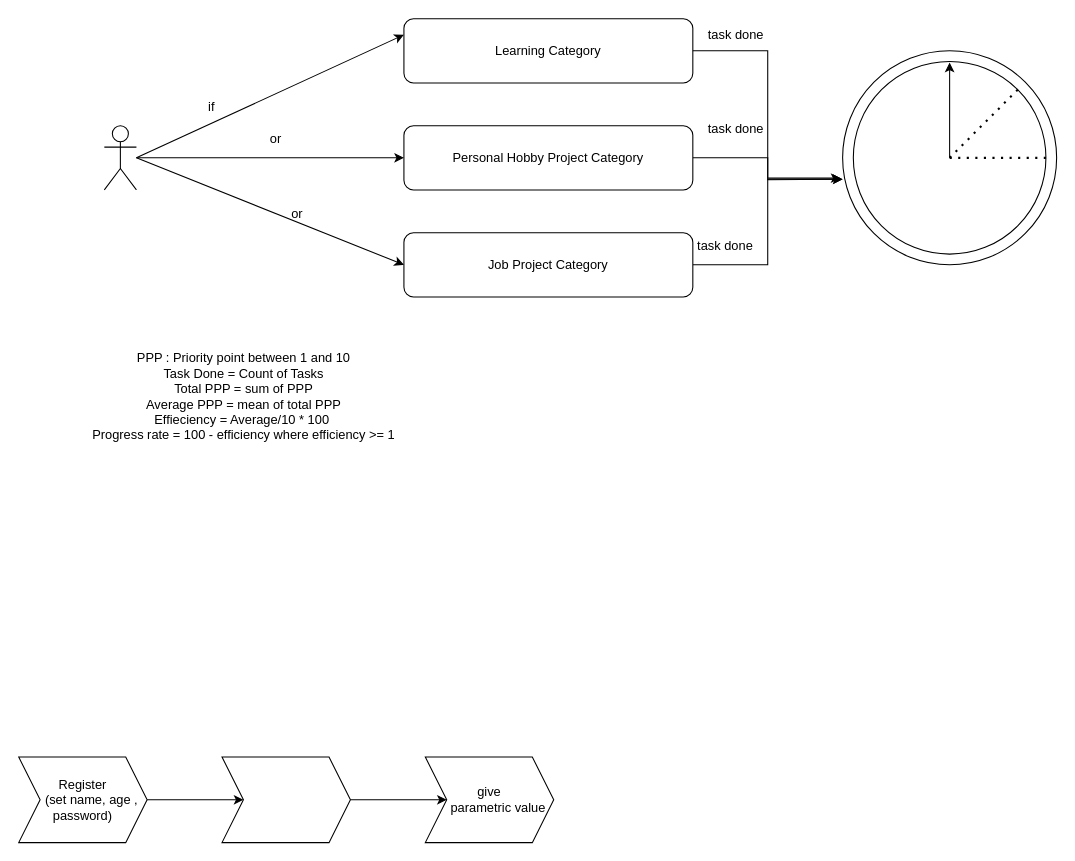
This 1075x861 diagram has some shape labels left out. The shapes that lost their labels are listed below. From the top down, each one's centre as x and y in pixels, then its label:
At (x=119, y=157): "Actor".
At (x=949, y=157): "Progress Priority Point".
At (x=285, y=799): "click on start task".
